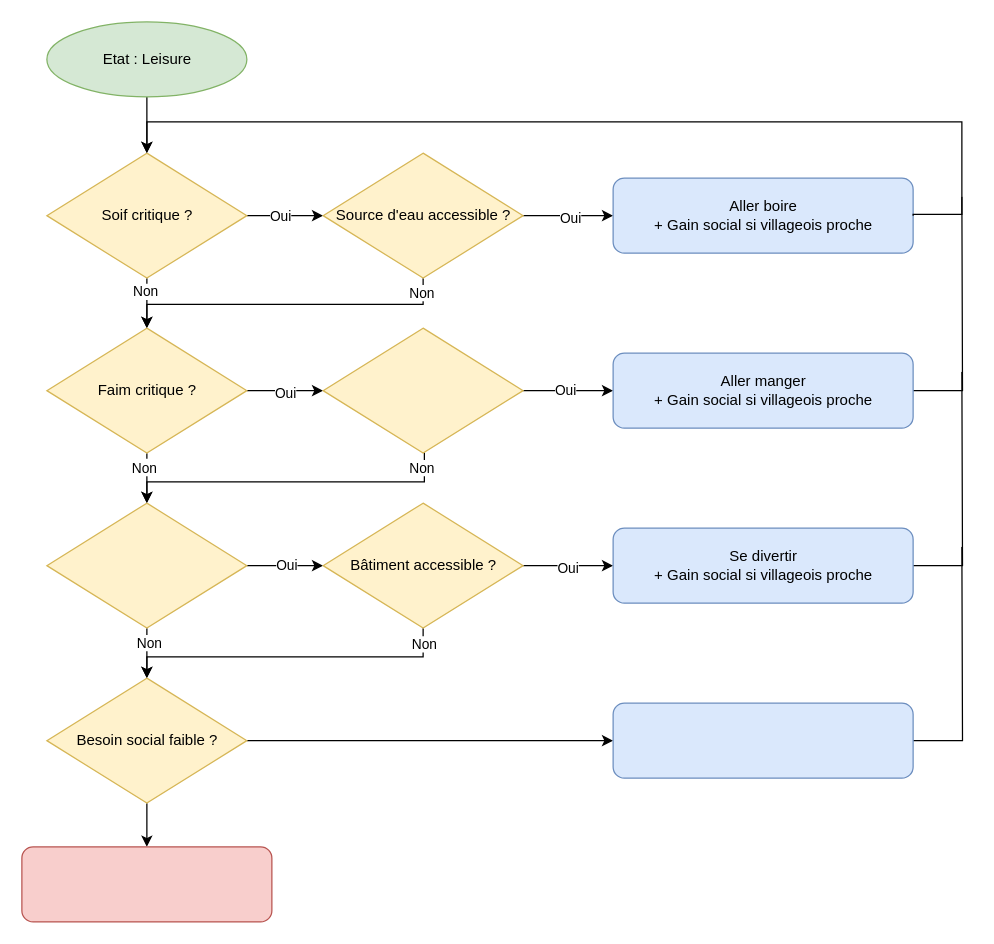
Some shapes in this 994 by 944 pixel diagram are drawn without their labels. Each missing label, with the centre of its shape:
Chercher un villageois et socialiser: the point at 762,740
Divertissement faible ?: the point at 146,565
Flâner / Attendre: the point at 146,884
Nourriture disponible ?: the point at 422,390
